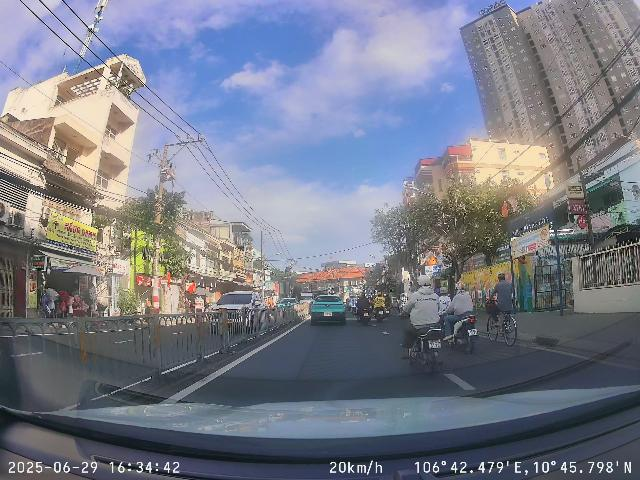201-cho-ngoat-nguy-hiem: (428, 255, 439, 265)
